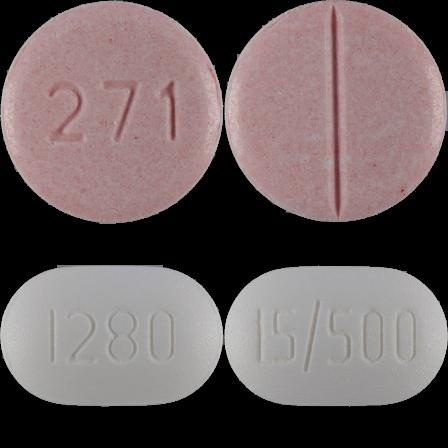13668-271: (0, 0, 224, 224)
